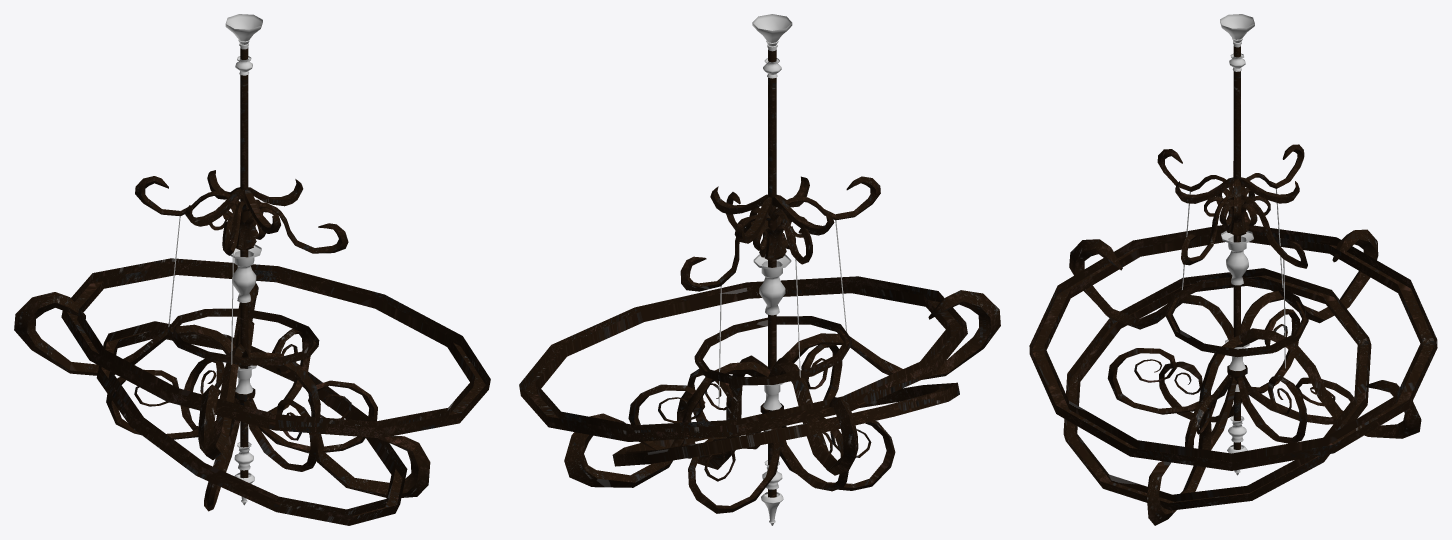
Rendered from SM_L1_Chandelier_02.fbx.
3 views of the same model, side by side, from view 1: azimuth 30°, elevation 25°; view 2: azimuth 150°, elevation 25°; view 3: azimuth 270°, elevation 25° (orthographic). The views are drawn at different scales.
Visible parts, largest first — view 1: L1_Chandelier_02; view 2: L1_Chandelier_02; view 3: L1_Chandelier_02.
Part boxes in pixels (bbox=[...]): L1_Chandelier_02: bbox=[14, 14, 490, 525]; L1_Chandelier_02: bbox=[519, 14, 1000, 525]; L1_Chandelier_02: bbox=[1029, 14, 1437, 525].
Size of the model in its own units: 527 by 656 by 535.
